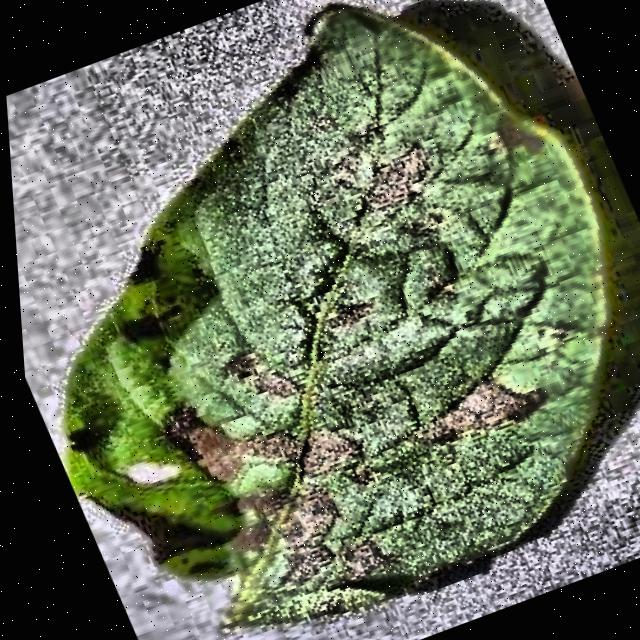Potato_leaf_early_blight: (66, 7, 609, 625)
